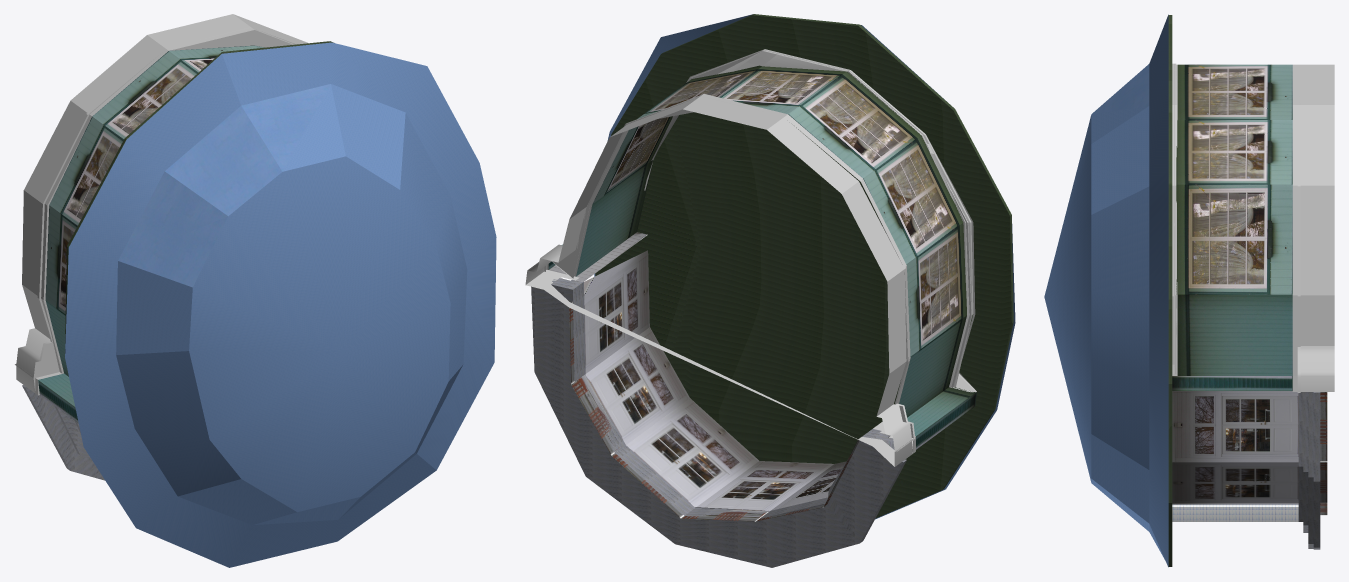
File: Ingeri_bastion_kohvik-origo.obj
The picture shows the model from 3 angles, left to right: view 1: azimuth 30°, elevation 25°; view 2: azimuth 150°, elevation 25°; view 3: azimuth 270°, elevation 25°; orthographic projection. The views are drawn at different scales.
Visible parts, largest first — view 1: Ingeri_bastion_kohvik; view 2: Ingeri_bastion_kohvik; view 3: Ingeri_bastion_kohvik.
Boxes of the visible parts, left/top/right/bottom form: Ingeri_bastion_kohvik: left=15, top=14, right=496, bottom=567; Ingeri_bastion_kohvik: left=525, top=14, right=1015, bottom=567; Ingeri_bastion_kohvik: left=1044, top=14, right=1334, bottom=567.
Size of the model in its own units: 14.44 by 16.5 by 8.72.
